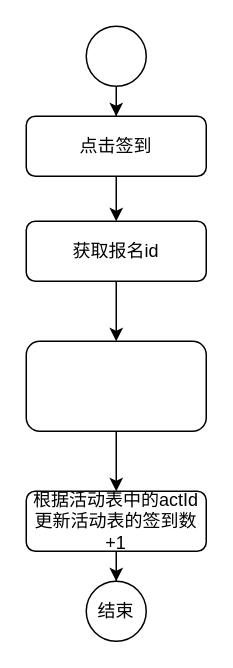
The diagram is 233 pixels wide and 668 high, and some of its shapes have lost their labels. Each missing label, with the box of its shape:
开始: (85, 25, 146, 86)
更新报名id更新报名表中的是否签到为true，将报名转台设置为已签到: (25, 340, 206, 431)
